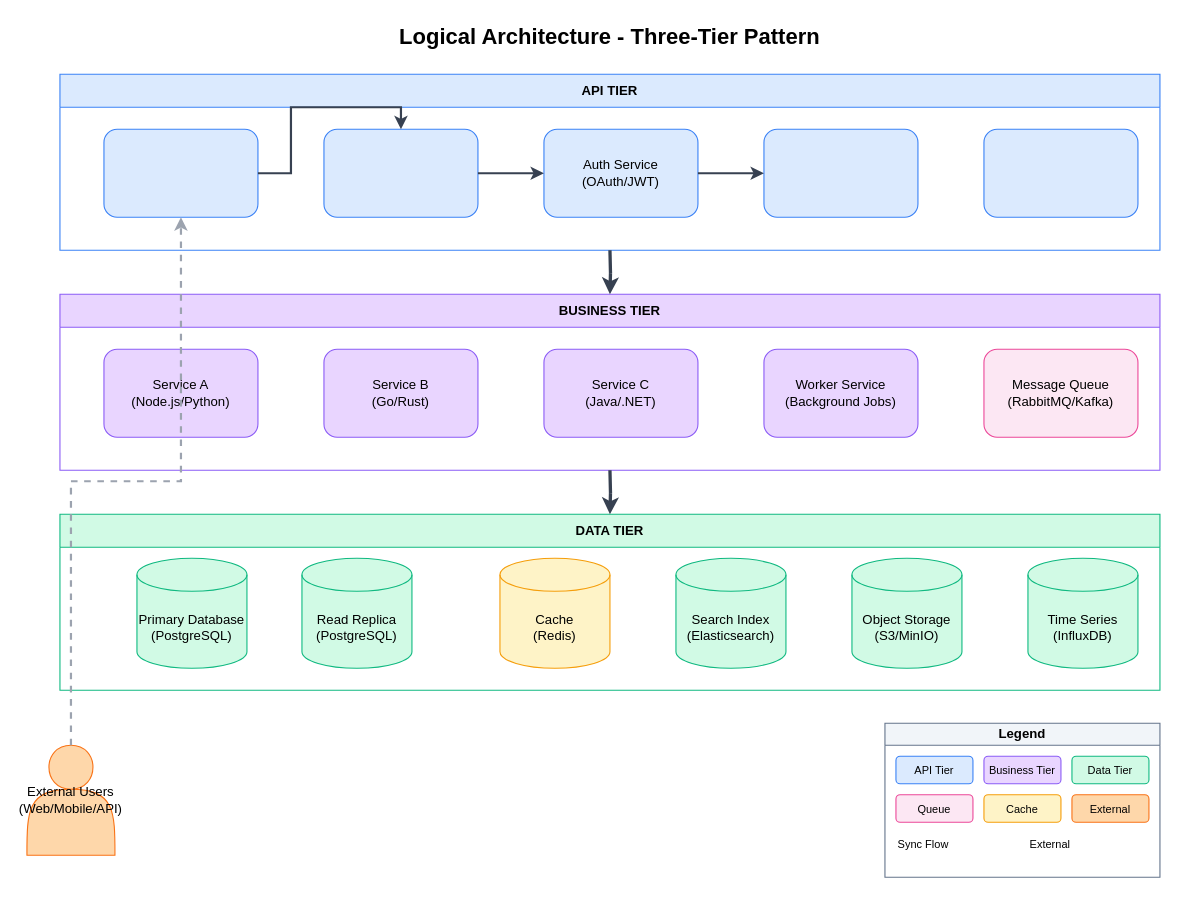
Image size: 1179x897. Some labels were removed from this diagram. Each missing label, with the centre of its shape:
API Documentation (OpenAPI/Swagger): (1060,172)
API Gateway (Kong/Express): (400,172)
Load Balancer (HAProxy/Nginx): (180,172)
Rate Limiter (Redis-based): (840,172)
